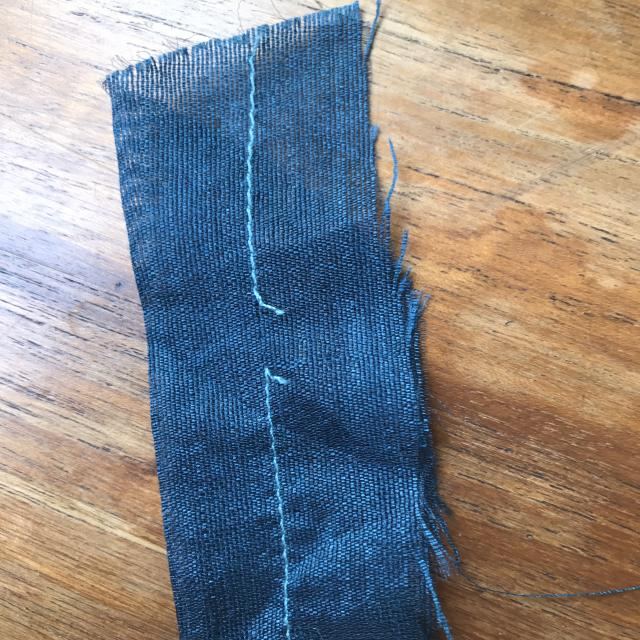broken: (232, 275, 316, 396)
